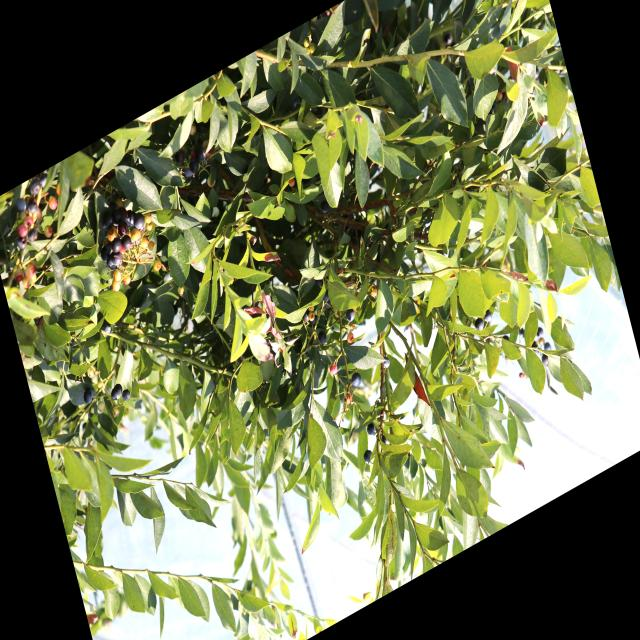blueberry: (109, 380, 127, 407), (78, 382, 94, 408), (112, 206, 128, 227), (132, 209, 147, 231), (349, 368, 363, 389), (29, 177, 42, 199), (194, 144, 208, 164), (187, 156, 201, 176), (173, 146, 187, 166), (25, 196, 38, 217), (99, 243, 113, 262), (344, 305, 357, 325), (27, 226, 40, 246), (101, 213, 114, 231), (16, 234, 29, 252), (474, 314, 485, 334), (16, 196, 27, 216), (361, 448, 373, 466), (365, 420, 377, 437), (110, 237, 122, 254), (112, 251, 124, 268), (117, 221, 129, 238), (380, 354, 391, 372), (320, 290, 332, 305), (482, 308, 493, 324), (120, 234, 131, 250), (540, 351, 550, 368), (316, 329, 326, 344)
blueberry-halfripe: (46, 193, 60, 213), (24, 259, 37, 280), (22, 213, 35, 231), (17, 222, 29, 240), (12, 266, 24, 283)
blueberry-unripe: (105, 227, 118, 244), (130, 226, 142, 244), (139, 234, 150, 252), (110, 277, 121, 294), (121, 271, 132, 287), (112, 268, 123, 284), (152, 257, 162, 274), (95, 399, 106, 414), (42, 224, 52, 240), (144, 211, 154, 226), (86, 365, 96, 380), (144, 220, 154, 234), (176, 283, 185, 297), (111, 405, 120, 419), (96, 378, 105, 391), (147, 240, 156, 252)
